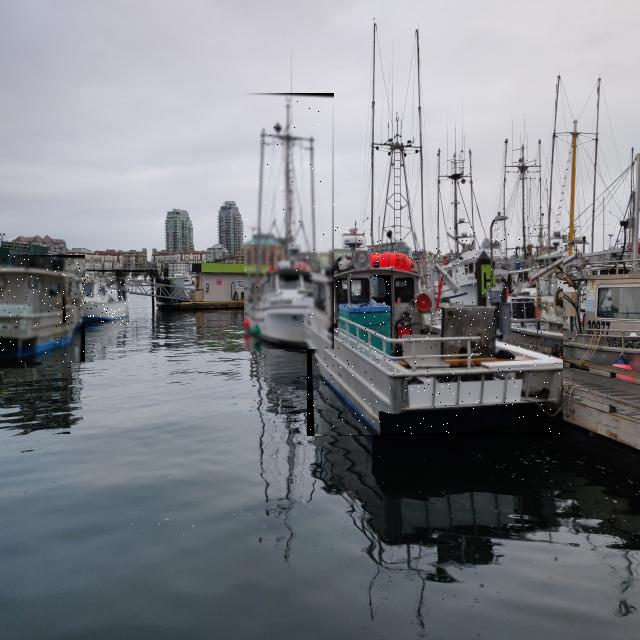boat: (307, 227, 563, 436), (244, 93, 334, 349), (0, 255, 85, 362), (63, 278, 129, 326)
